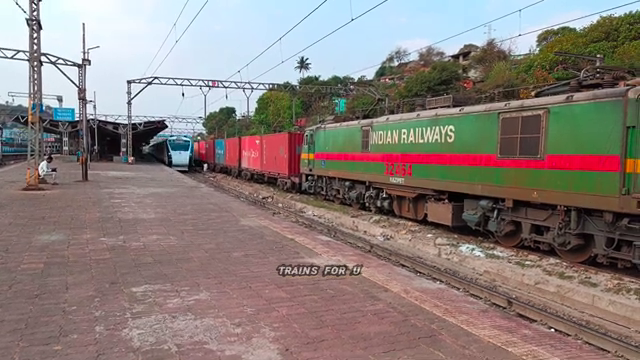Engine: (374, 156, 422, 181)
